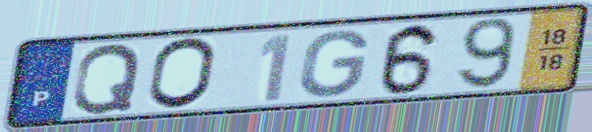1: (258, 32, 295, 103)
6: (378, 21, 443, 97)
9: (452, 16, 521, 91)
G: (296, 27, 372, 99)
O: (143, 35, 220, 112)
Q: (69, 41, 144, 117)
